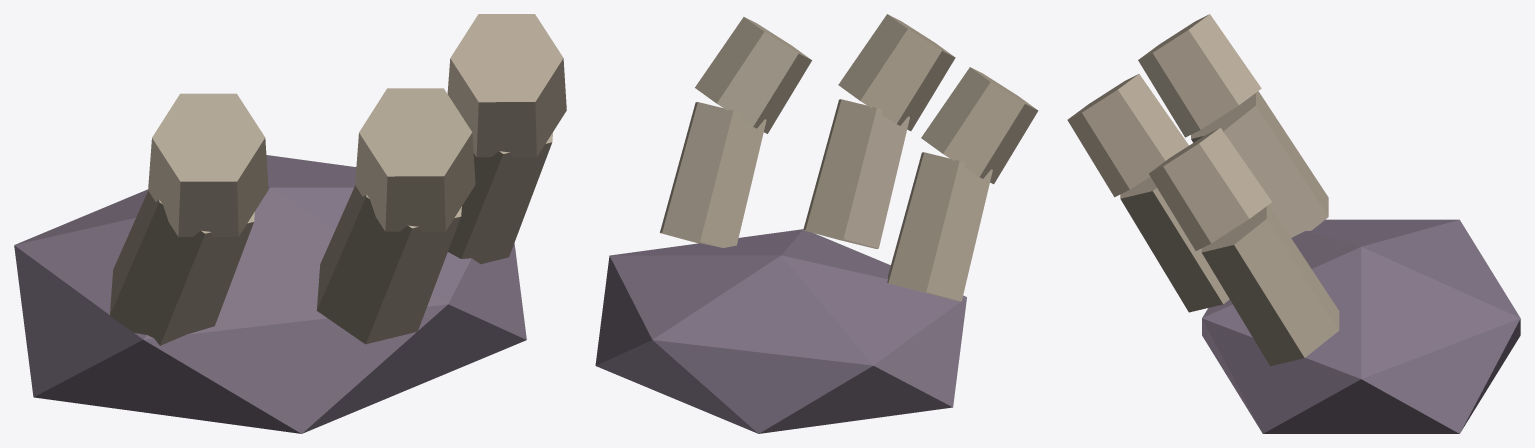
Rendered from map-exclusive-v3__dragon_09.glb.
3 renders of one model, left to right at view 1: azimuth 30°, elevation 25°; view 2: azimuth 150°, elevation 25°; view 3: azimuth 270°, elevation 25°, orthographic. The views are drawn at different scales.
Visible parts, largest first — view 1: dragon_09; view 2: dragon_09; view 3: dragon_09.
Boxes of the visible parts, box(x1,y1,x2,y2) form: dragon_09: box(14, 14, 566, 433); dragon_09: box(595, 14, 1038, 433); dragon_09: box(1067, 14, 1520, 433).
Bounding box in the file's own units: 1.18 × 1.01 × 1.28.
